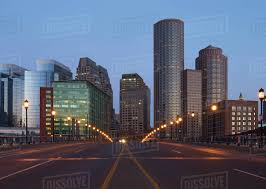strada: (2, 137, 266, 189)
